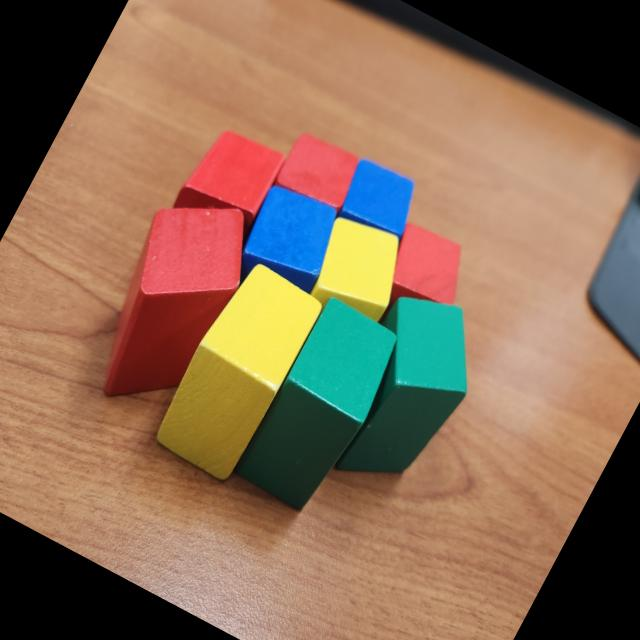blue: (220, 176, 352, 318), (328, 153, 428, 251)
green: (306, 274, 504, 510), (229, 291, 411, 521)
red: (66, 174, 271, 428), (167, 116, 289, 246), (368, 216, 480, 330), (270, 126, 368, 220)
yellow: (146, 255, 328, 484), (295, 206, 420, 332)
